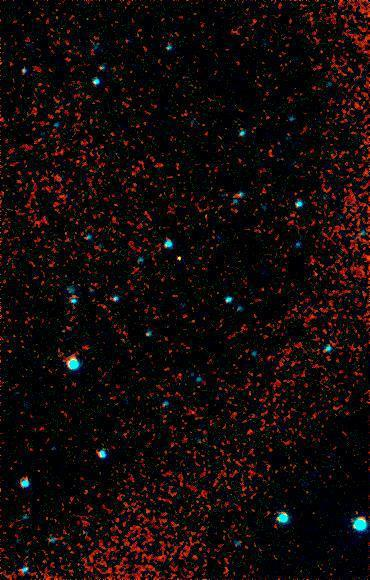star: (164, 244, 194, 274)
